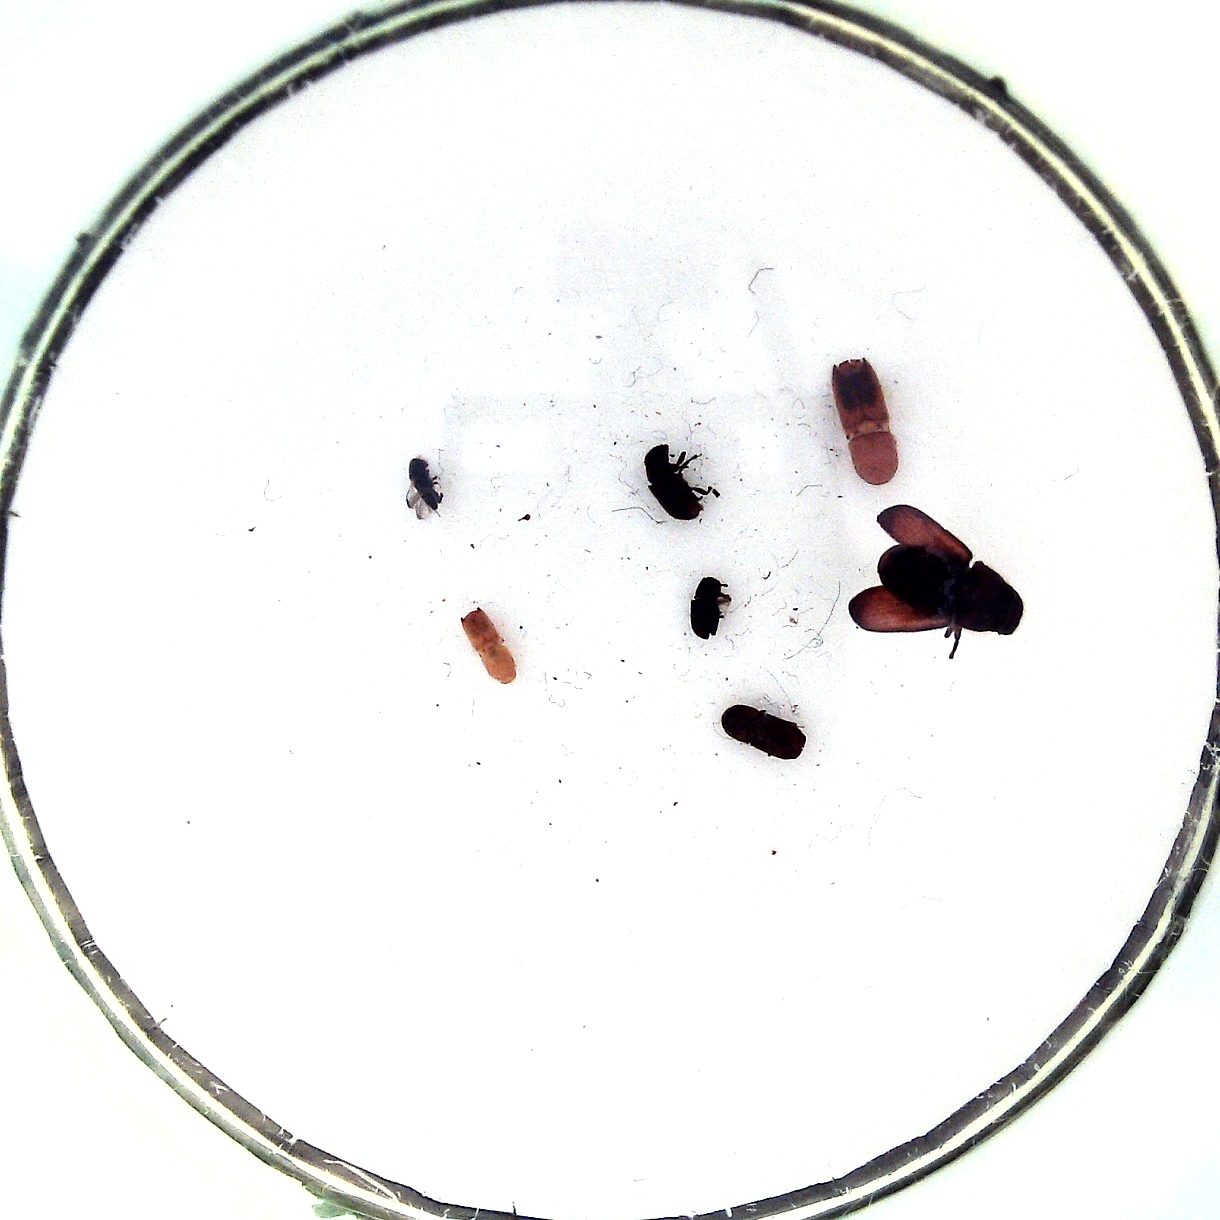Boerner: (832, 356, 899, 485)
Leconte: (877, 542, 1023, 636)
acuminatus: (690, 576, 723, 639), (409, 458, 444, 511)
armandi: (645, 444, 704, 521)
linnaeus: (721, 703, 806, 759), (461, 606, 517, 684)
